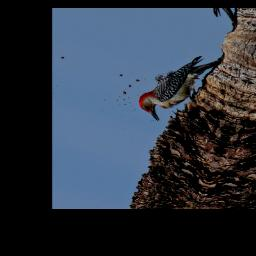Woodpecker: (132, 39, 225, 133)
